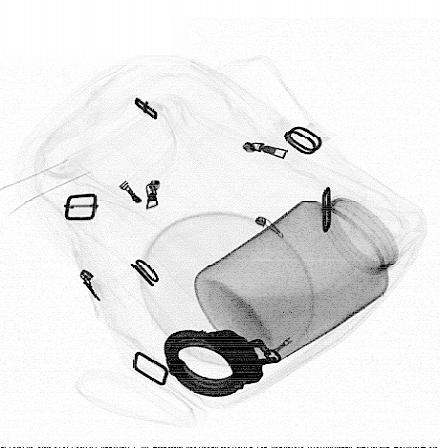HandCuffs: (163, 327, 283, 399)
